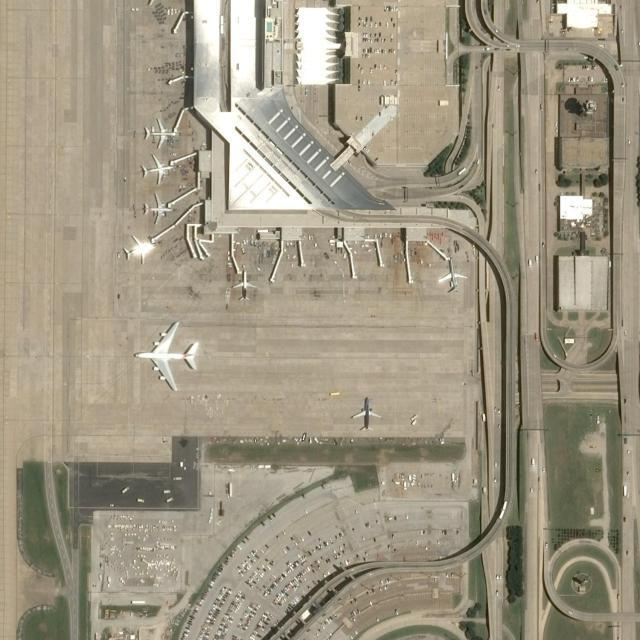Aircraft: (132, 321, 199, 392), (142, 118, 176, 151), (350, 397, 381, 431), (141, 193, 173, 224), (140, 156, 174, 185), (123, 234, 153, 263), (439, 260, 465, 292), (234, 269, 256, 301)
